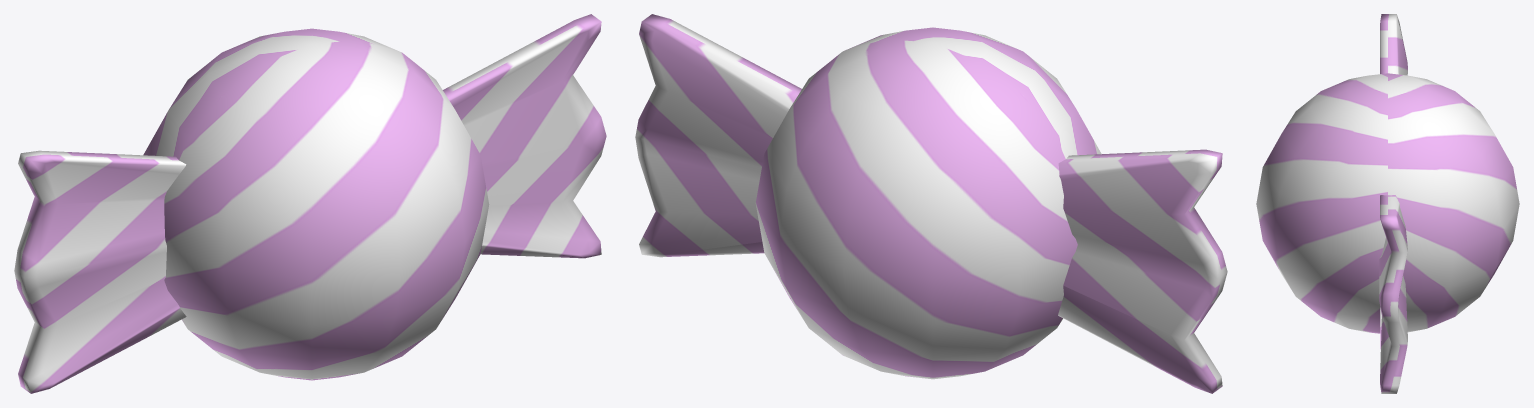
Rendered from emoji_4.glb.
3 renders of one model, left to right at view 1: azimuth 30°, elevation 25°; view 2: azimuth 150°, elevation 25°; view 3: azimuth 270°, elevation 25°, orthographic. The views are drawn at different scales.
Parts seen in each view (by area): view 1: Sphere; view 2: Sphere; view 3: Sphere.
Boxes of the visible parts, x1=… form: Sphere: x1=14, y1=14, x2=606, y2=393; Sphere: x1=635, y1=14, x2=1227, y2=393; Sphere: x1=1256, y1=14, x2=1519, y2=393.
Size of the model in its own units: 0.6259 by 0.3301 by 0.3301.
1 material, 1 textured.
